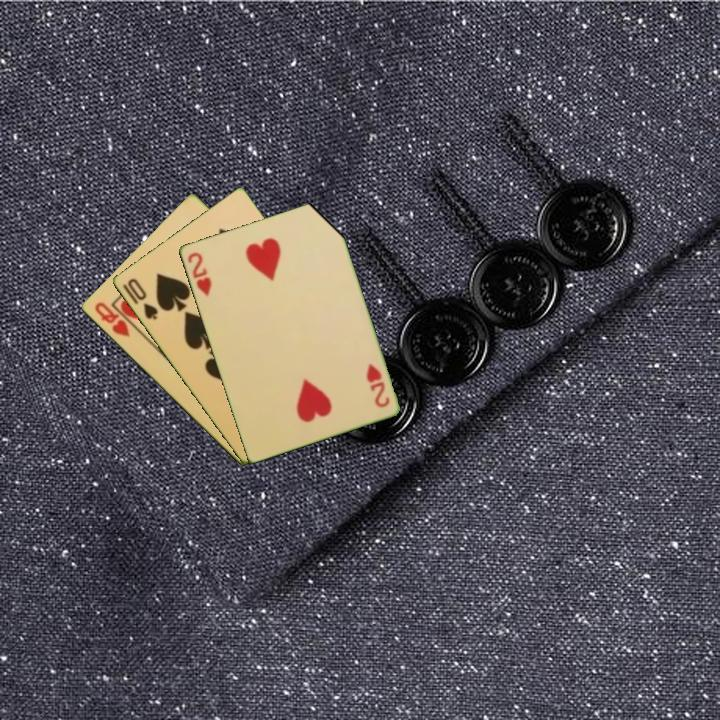10s: (123, 274, 160, 323)
2h: (184, 248, 214, 299), (362, 359, 392, 410)
Qh: (91, 299, 133, 340)
